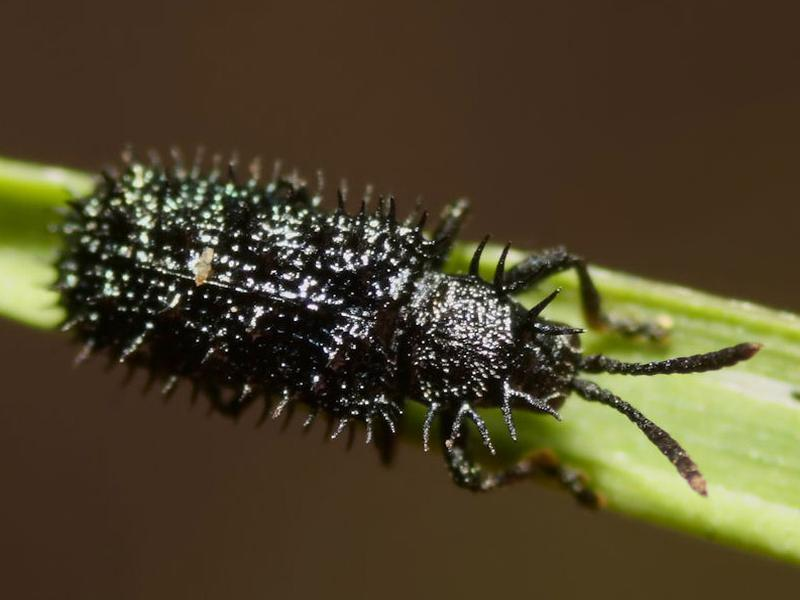Spiny_beetle: (56, 133, 608, 491)
